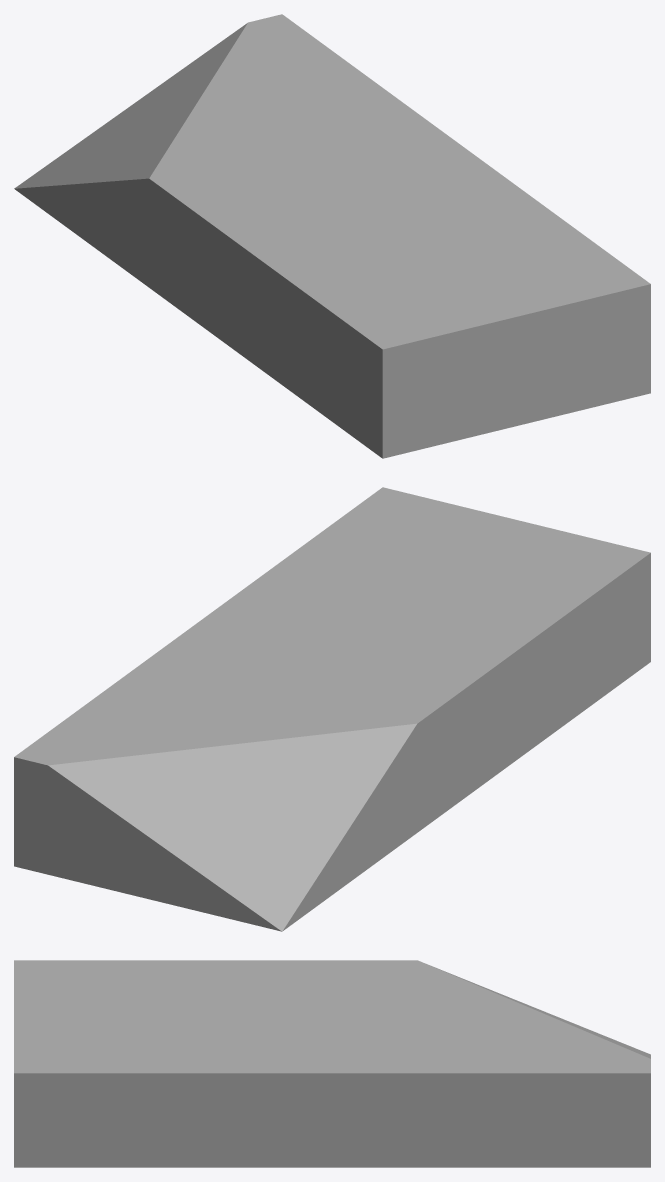
File: brick.glb
3 renders of one model, top to bottom at view 1: azimuth 30°, elevation 25°; view 2: azimuth 150°, elevation 25°; view 3: azimuth 270°, elevation 25°, orthographic. The views are drawn at different scales.
Parts seen in each view (by area): view 1: brick; view 2: brick; view 3: brick.
Part boxes in pixels (left/top/right/bottom): brick: left=14, top=14, right=650, bottom=458; brick: left=14, top=487, right=650, bottom=931; brick: left=14, top=960, right=650, bottom=1167.
Size of the model in its own units: 0.1543 by 0.0601 by 0.3675.
Materials: 1 (1 with a texture image).
